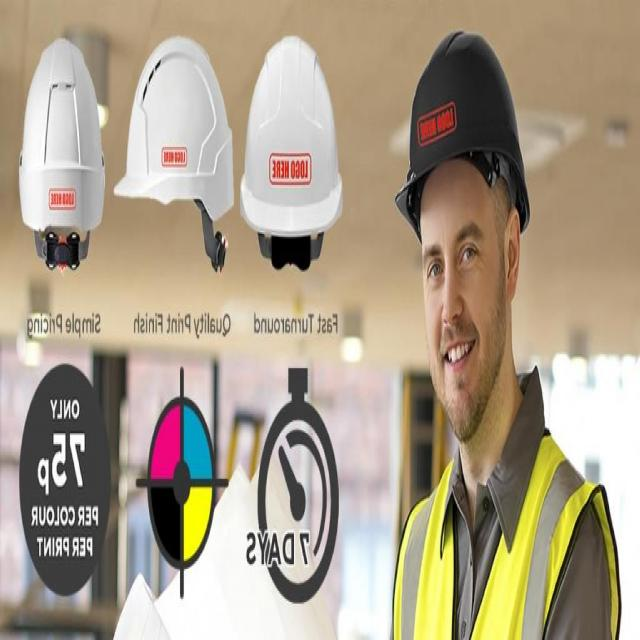Reflective-Jacket: (391, 411, 620, 640)
Safety-Helmet: (392, 17, 534, 248), (114, 29, 236, 284), (239, 32, 347, 288), (17, 29, 112, 279)
